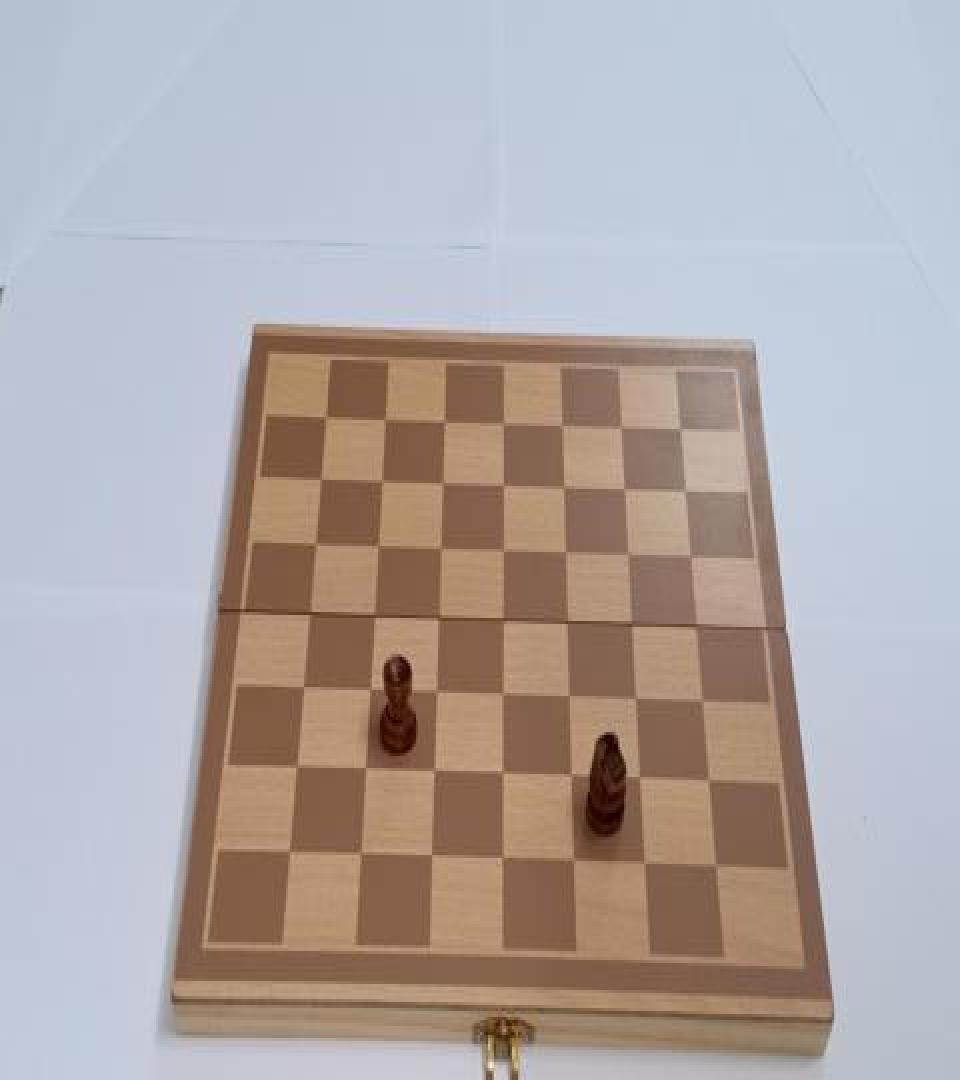xcorner: (316, 400, 334, 428), (436, 406, 454, 434), (496, 760, 514, 788), (679, 478, 697, 506), (300, 598, 318, 625), (287, 753, 305, 780), (280, 837, 298, 864), (376, 404, 394, 431), (372, 465, 390, 492), (369, 531, 387, 558), (361, 676, 379, 703), (357, 756, 375, 783), (352, 840, 370, 867), (434, 468, 452, 495), (432, 534, 450, 561), (430, 604, 448, 631), (428, 678, 446, 705), (424, 843, 442, 870), (495, 408, 513, 435), (495, 471, 513, 498), (495, 537, 513, 564), (496, 681, 514, 708), (496, 846, 514, 873), (555, 411, 573, 438), (557, 474, 575, 501), (559, 540, 577, 567), (561, 609, 579, 636), (563, 684, 581, 711), (568, 849, 586, 876), (614, 414, 632, 441), (618, 477, 636, 504), (622, 543, 640, 570), (626, 612, 644, 639), (630, 687, 648, 714), (635, 766, 653, 793), (640, 852, 658, 879), (674, 417, 692, 444), (685, 545, 703, 572), (691, 615, 709, 642), (697, 690, 715, 717), (711, 855, 729, 882), (311, 464, 329, 490), (305, 530, 323, 556), (293, 674, 311, 700), (365, 602, 383, 628), (426, 758, 444, 784), (496, 608, 514, 634), (565, 764, 583, 790), (704, 770, 722, 796)
